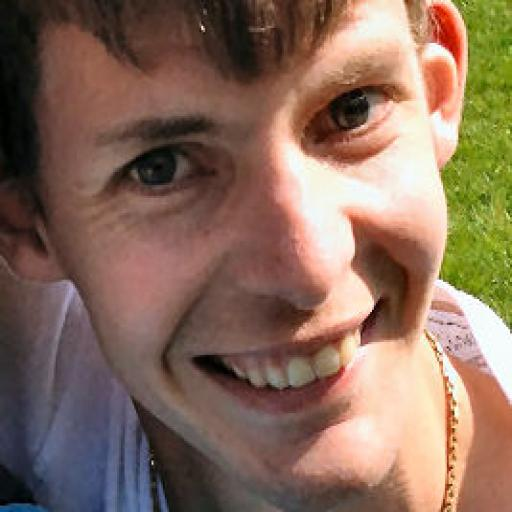Autism: (35, 0, 472, 493)
